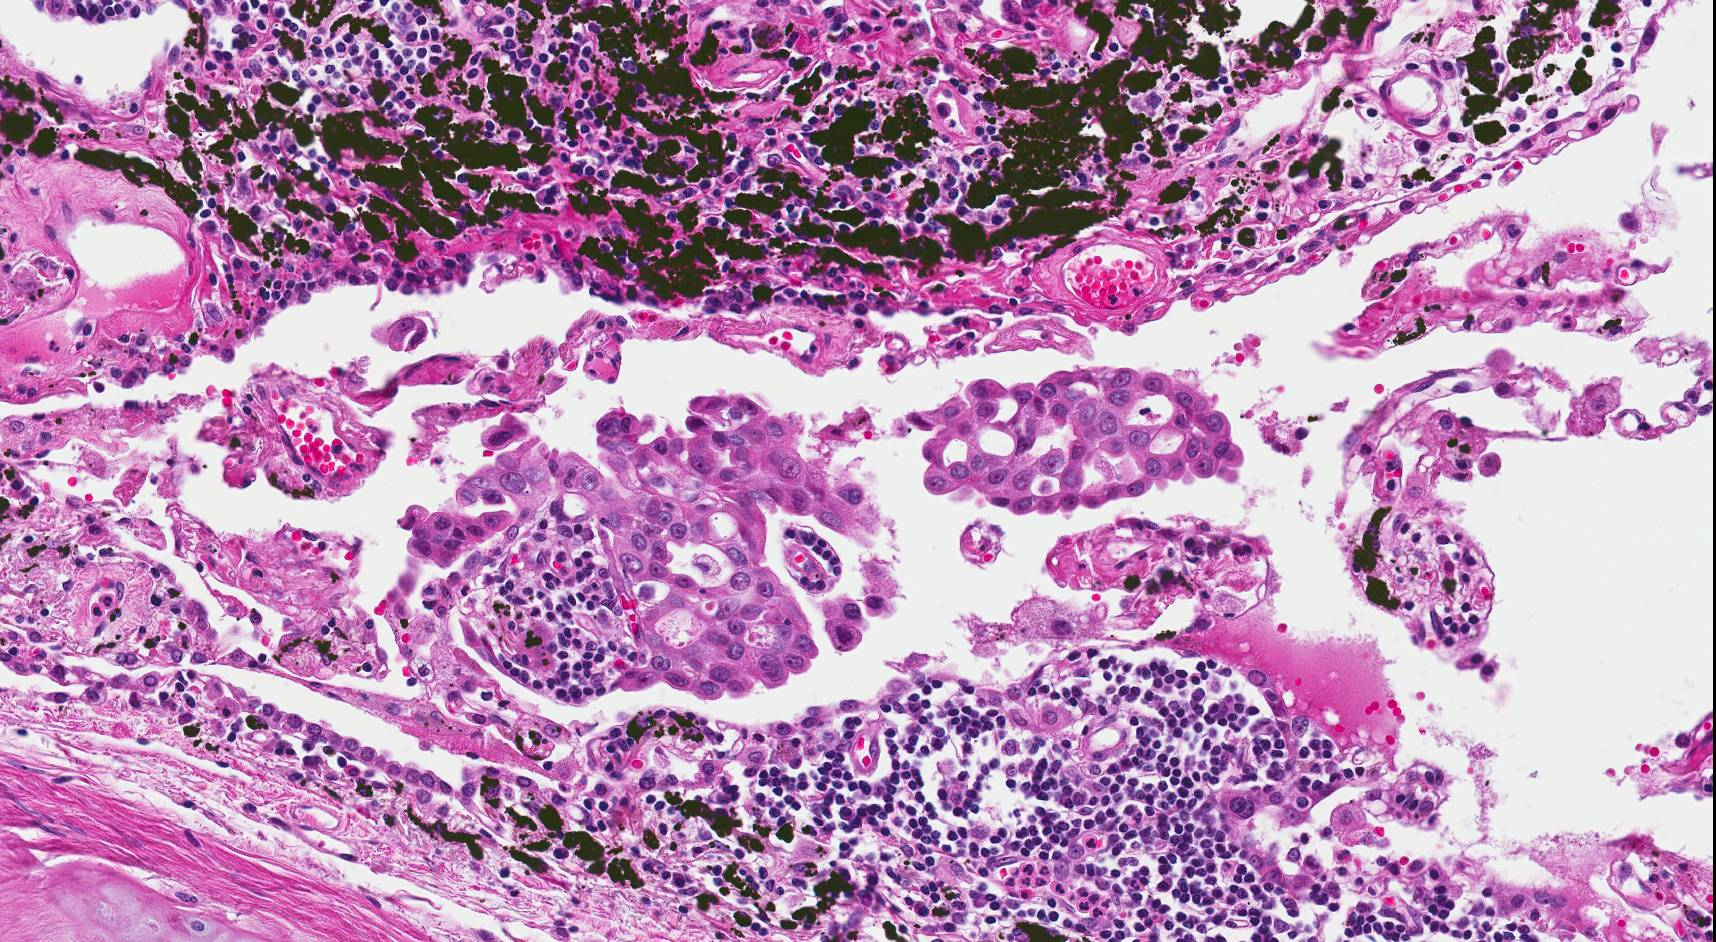stas: (397, 390, 891, 702), (905, 365, 1243, 518), (387, 311, 431, 354)
